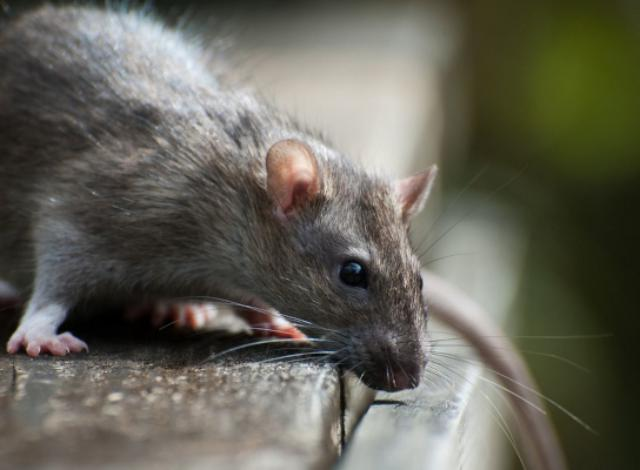rat: (4, 3, 460, 400)
